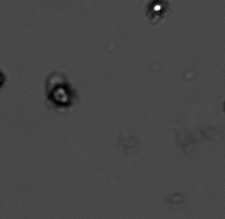Dead Cell: (46, 80, 75, 108)
Living Cell: (148, 1, 168, 19)
